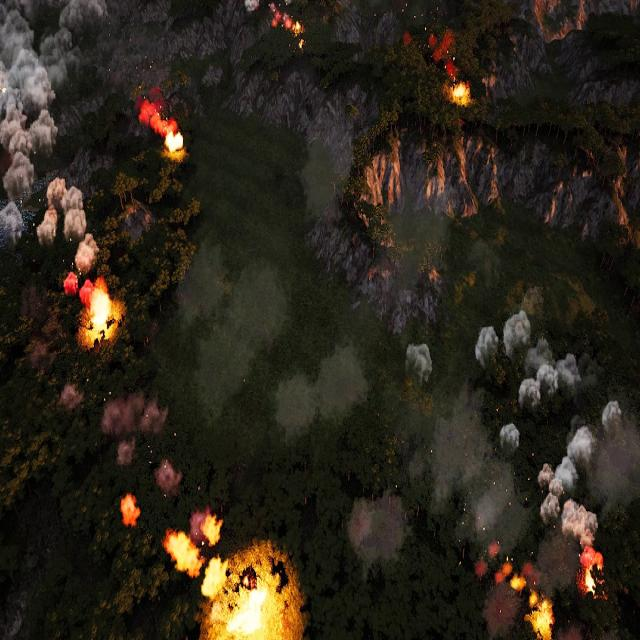fire: (211, 570, 290, 638), (140, 100, 182, 161), (165, 528, 201, 574), (86, 281, 117, 333), (526, 594, 556, 640), (580, 564, 607, 596), (119, 495, 140, 528), (286, 16, 305, 50), (451, 84, 469, 105)
smoke: (0, 0, 107, 290), (537, 397, 625, 547), (477, 310, 596, 402), (101, 400, 169, 463), (404, 343, 436, 390), (156, 460, 184, 496), (501, 422, 517, 458)
